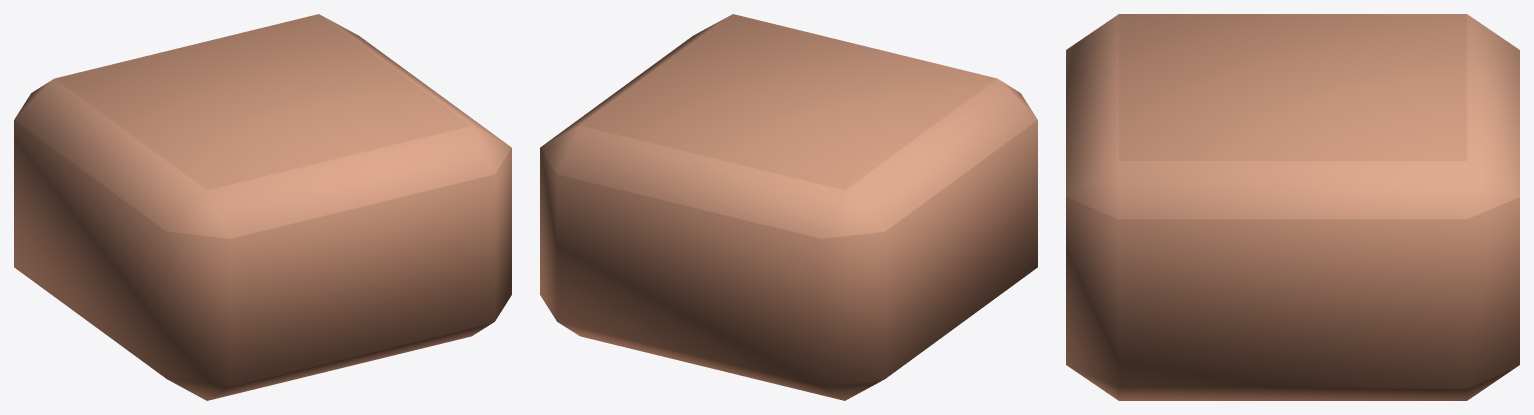
File: stump_2.fbx
3 views of the same model, side by side, from view 1: azimuth 30°, elevation 25°; view 2: azimuth 150°, elevation 25°; view 3: azimuth 270°, elevation 25° (orthographic). The views are drawn at different scales.
Parts seen in each view (by area): view 1: stump_2; view 2: stump_2; view 3: stump_2.
Boxes of the visible parts, bbox=[...] form: stump_2: bbox=[14, 14, 511, 400]; stump_2: bbox=[540, 14, 1037, 400]; stump_2: bbox=[1066, 14, 1519, 400].
Bounding box in the file's own units: 45.71 × 26.67 × 45.71.
Materials: 1 (1 with a texture image).
